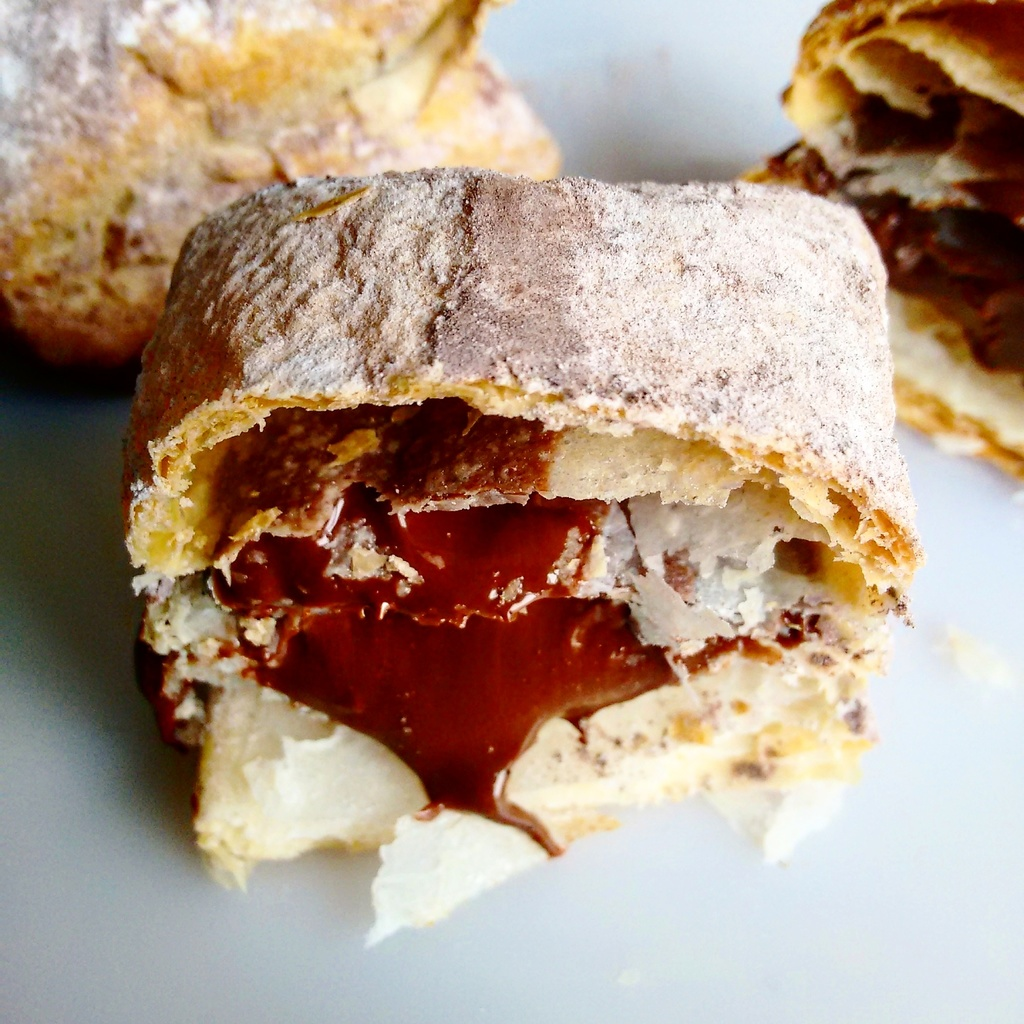sandwich: (122, 180, 932, 949), (0, 0, 561, 371), (724, 0, 1023, 486)
